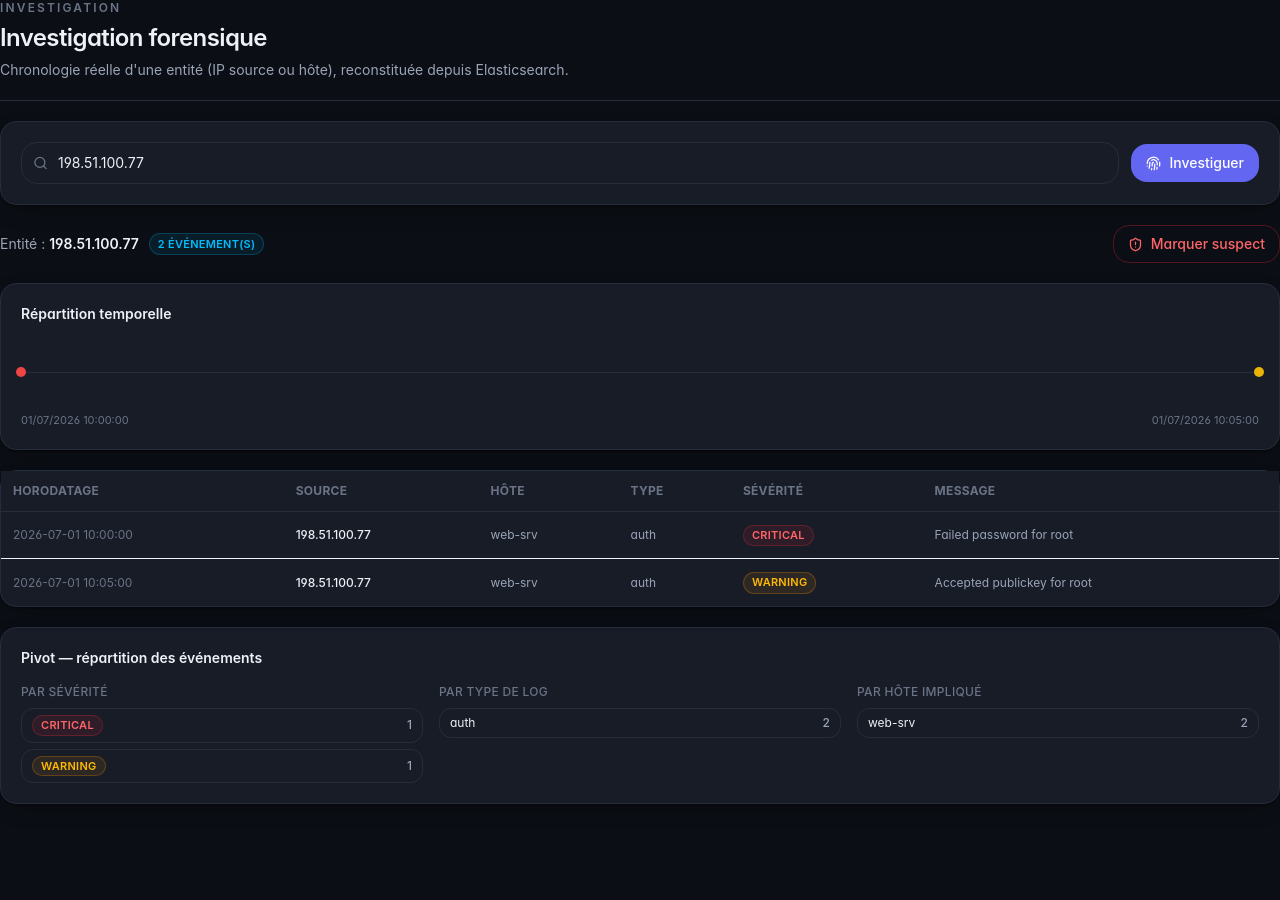
Test: InvestigationView (timeline S2 Data) › clic sur un événement de la chronologie affiche son détail
Click the text "Accepted publickey for root".
click(1013, 582)  # box [923,559,1279,606]
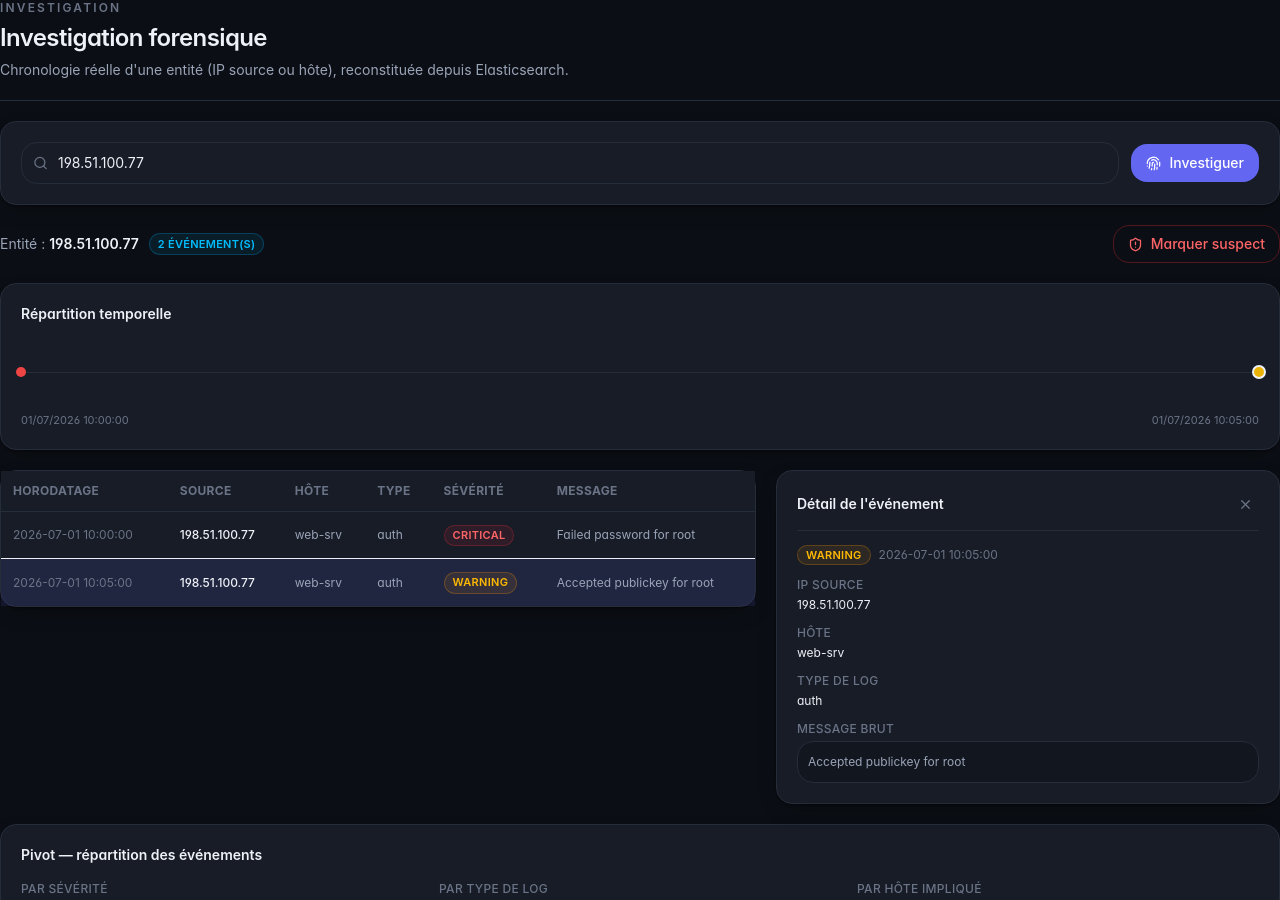
Result: the text "Détail de l'événement" is shown at [797,494,944,514]
